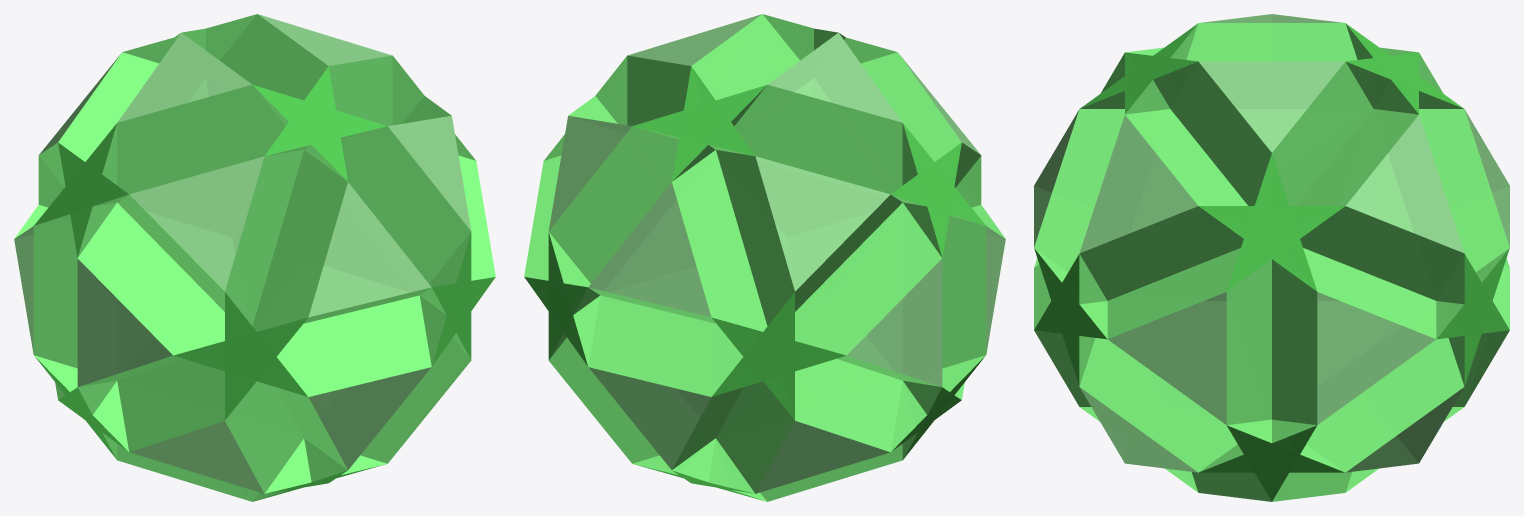
The model's file is SmallDitrigonalDodecicosidodecahedron.obj.
3 views of the same model, side by side, from view 1: azimuth 30°, elevation 25°; view 2: azimuth 150°, elevation 25°; view 3: azimuth 270°, elevation 25° (orthographic). The views are drawn at different scales.
Size of the model in its own units: 3.24 by 3.24 by 3.24.
